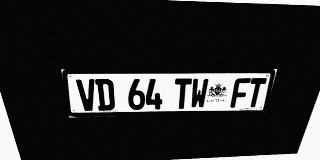4: (146, 79, 163, 110)
6: (127, 79, 145, 110)
D: (95, 79, 115, 111)
F: (230, 78, 251, 108)
T: (245, 78, 267, 107), (173, 78, 192, 109)
V: (76, 79, 97, 111)
W: (190, 78, 209, 109)
